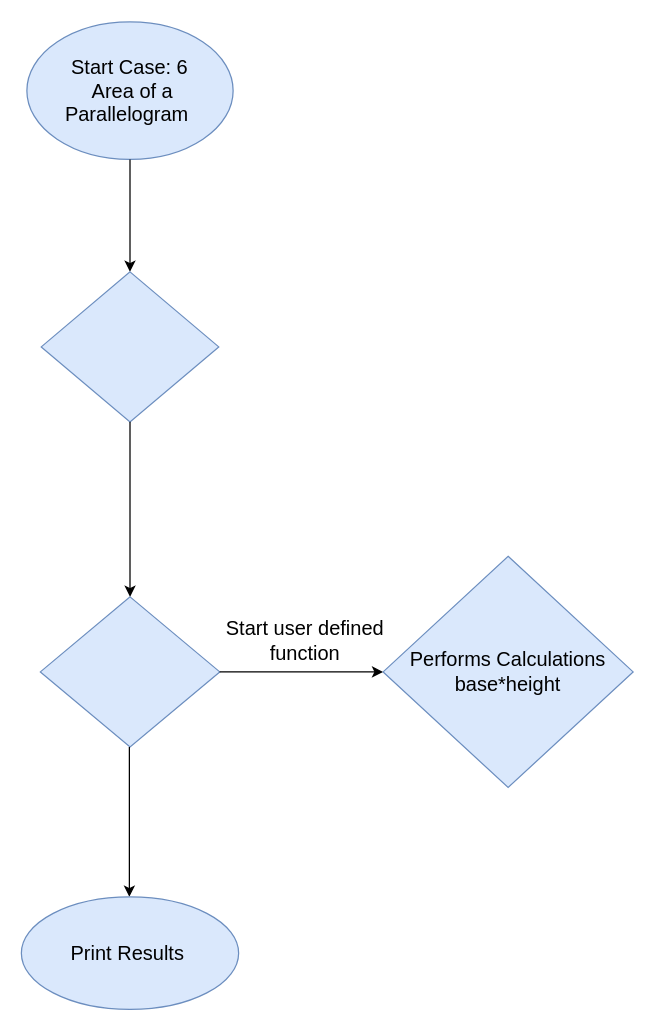
The diagram is 656 pixels wide and 1031 high, and some of its shapes have lost their labels. Here are the shapes that lost their labels. From the top down, the centre of each, then its label:
[129,346]: Declare Variables
[129,671]: Reads in input
